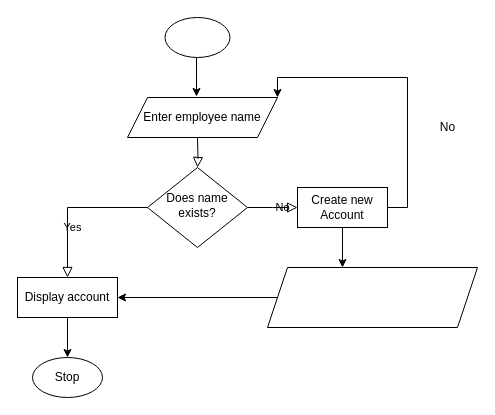
Some shapes in this 495 by 415 pixel diagram are drawn without their labels. The centre of each missing label's shape, as x and y in pixels:
Enter name, Id number, age, year joining, cell number, email: the point at 372,297
Start: the point at 197,37
